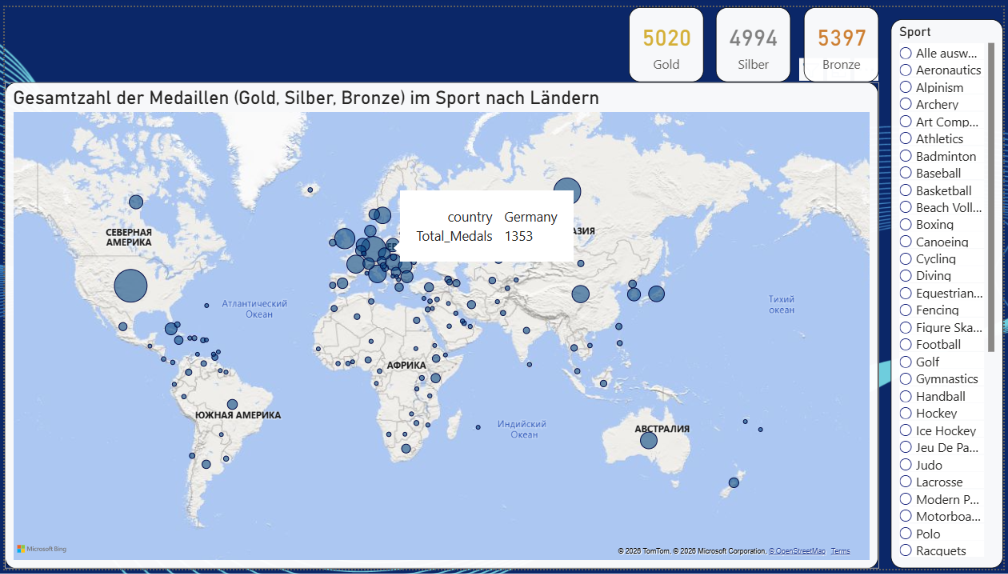

What the dashboard file says about the page in this screenshot:
{"tool":"powerbi","page":{"name":"Gesamtzahl der Medaillen_Welt","canvas":[1280,720],"ordinal":1},"visuals":[{"type":"map","title":"Gesamtzahl der Medaillen (Gold, Silber, Bronze) im Sport nach Ländern","fields":{"Category":["public dim_country.country"],"Size":["kontrol.Total_Medals"]},"box":[0,96,1120,624],"z":0},{"type":"listSlicer","title":"Sport","fields":{"Values":["public dim_sport.sport"]},"box":[1136,16,144,704],"z":1000},{"type":"card","fields":{"Values":["public fact_results.Gold"]},"box":[800,0,96,96],"z":2000},{"type":"card","fields":{"Values":["public fact_results.Bronze"]},"box":[1024,0,96,96],"z":3000},{"type":"card","fields":{"Values":["public fact_results.Silber"]},"box":[912,0,96,96],"z":4000}]}

Visuals, with their boxes in screenshot pixels (x1, y1, x2, y2), scaled from the page's 1280x720 canvas onto the 1008x574 screenshot:
"Gesamtzahl der Medaillen (Gold, Silber, Bronze) im Sport nach Ländern" map: [0,77,882,573]
"Sport" listSlicer: [895,13,1007,573]
card - public fact_results.Gold: [630,0,706,77]
card - public fact_results.Bronze: [806,0,882,77]
card - public fact_results.Silber: [718,0,794,77]
